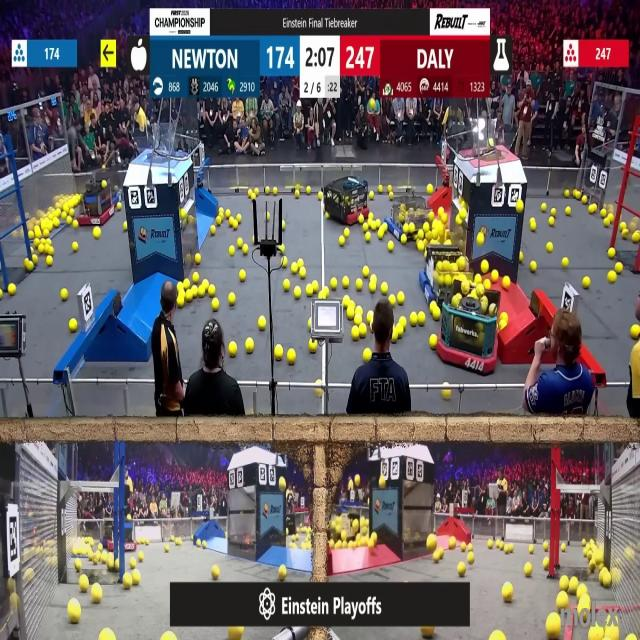ball_airborne: (138, 110, 146, 124), (488, 139, 494, 155), (280, 478, 286, 492), (379, 478, 386, 490), (354, 476, 361, 488)
ball_ground: (548, 616, 562, 640), (68, 600, 80, 622), (502, 585, 512, 603), (92, 586, 102, 604), (557, 593, 568, 609), (568, 579, 578, 596), (422, 626, 434, 640), (600, 571, 610, 587), (590, 628, 601, 640), (101, 630, 114, 640), (79, 578, 88, 592), (9, 594, 18, 608), (287, 349, 295, 364), (230, 342, 238, 357), (278, 565, 286, 579), (122, 574, 130, 588), (426, 535, 434, 549), (246, 339, 253, 354), (631, 325, 639, 338), (458, 562, 466, 575), (418, 313, 426, 326), (275, 346, 283, 359), (310, 341, 318, 354), (429, 336, 437, 349), (560, 579, 568, 592), (482, 262, 490, 275), (498, 317, 506, 330), (208, 285, 216, 297), (608, 272, 616, 284), (212, 566, 220, 578), (347, 308, 355, 320), (432, 309, 440, 321), (133, 572, 141, 584), (367, 280, 375, 292), (524, 564, 532, 576), (432, 551, 440, 563), (258, 317, 265, 330), (70, 319, 77, 332), (411, 313, 418, 326), (352, 326, 359, 339), (478, 234, 485, 247), (320, 288, 329, 298), (26, 262, 34, 273), (354, 304, 362, 315), (492, 632, 503, 640), (530, 262, 537, 274), (363, 349, 370, 361), (396, 292, 403, 304), (359, 324, 366, 336), (362, 267, 369, 279), (293, 286, 300, 298), (178, 295, 185, 307), (212, 300, 219, 312), (227, 293, 234, 305), (354, 312, 361, 324), (396, 326, 403, 338), (290, 265, 298, 275), (45, 255, 52, 266), (545, 242, 552, 253), (344, 295, 351, 306), (502, 277, 509, 288), (307, 285, 314, 296), (185, 290, 192, 301), (199, 287, 206, 298), (389, 293, 396, 304), (356, 279, 362, 291), (62, 288, 68, 300), (450, 536, 456, 548), (313, 281, 319, 293), (398, 317, 406, 326), (76, 559, 82, 571), (518, 202, 524, 214), (330, 279, 337, 289), (617, 265, 624, 275), (193, 253, 200, 263), (8, 284, 15, 294), (343, 278, 350, 288), (191, 274, 198, 284), (541, 559, 548, 569), (94, 229, 101, 239), (466, 554, 473, 564), (131, 558, 138, 568), (444, 390, 451, 400), (363, 233, 370, 243), (492, 272, 499, 282), (164, 633, 174, 640), (504, 542, 511, 552), (369, 536, 376, 546), (35, 230, 42, 240), (584, 277, 590, 288), (563, 256, 569, 267), (240, 271, 246, 282), (284, 280, 290, 291), (530, 219, 536, 230), (366, 312, 372, 323), (382, 283, 388, 294), (282, 256, 288, 267), (418, 241, 424, 252), (108, 559, 114, 570), (392, 333, 398, 344), (237, 239, 244, 248), (572, 189, 579, 198), (608, 248, 614, 258), (388, 242, 394, 252), (298, 269, 304, 279), (427, 184, 433, 194), (72, 242, 78, 252), (519, 252, 525, 262), (632, 234, 638, 244), (114, 560, 120, 570), (38, 244, 44, 254), (589, 205, 595, 215), (370, 220, 376, 230), (203, 279, 210, 287), (418, 232, 425, 240), (622, 232, 629, 240), (178, 289, 185, 297), (69, 208, 76, 216), (340, 237, 346, 246), (243, 245, 249, 254), (378, 231, 384, 240), (362, 222, 368, 231), (547, 217, 553, 226), (600, 209, 606, 218), (566, 207, 572, 216), (580, 197, 586, 206), (178, 280, 184, 289), (266, 186, 272, 195), (540, 204, 546, 213), (358, 215, 364, 224), (443, 214, 449, 223), (187, 215, 193, 224), (184, 279, 189, 289), (400, 236, 405, 246), (564, 189, 570, 197), (344, 230, 350, 238), (297, 258, 303, 266), (460, 542, 466, 550), (46, 247, 52, 255), (29, 232, 35, 240), (250, 192, 256, 200), (43, 230, 49, 238), (227, 218, 233, 226), (236, 214, 242, 222), (211, 224, 216, 233), (229, 245, 234, 254), (139, 553, 144, 562), (552, 208, 557, 217), (216, 216, 221, 225), (604, 218, 609, 227), (234, 220, 239, 229), (224, 209, 229, 218), (628, 635, 637, 640), (67, 216, 73, 223), (316, 191, 322, 198), (621, 222, 627, 229), (529, 544, 534, 552), (73, 220, 78, 228), (33, 255, 38, 263), (542, 542, 547, 550), (467, 542, 472, 550), (307, 186, 312, 194), (379, 185, 384, 193), (273, 187, 278, 195), (388, 184, 393, 192), (195, 539, 200, 547), (0, 289, 4, 299), (424, 222, 429, 230), (440, 208, 445, 216), (34, 239, 39, 247), (328, 212, 332, 221), (388, 192, 394, 198), (184, 210, 188, 219), (561, 543, 566, 550), (294, 190, 299, 197), (218, 208, 223, 215), (123, 222, 127, 230), (164, 546, 168, 554), (282, 221, 286, 229), (116, 202, 120, 210), (489, 540, 493, 548), (368, 190, 372, 198), (280, 245, 284, 253), (309, 319, 313, 327), (368, 212, 372, 220), (498, 540, 502, 548), (268, 212, 272, 220), (176, 538, 181, 544), (99, 543, 103, 549), (171, 536, 175, 542), (146, 538, 150, 544), (204, 540, 207, 547)
goal: (466, 123, 521, 161), (125, 128, 187, 160)
robot_blue: (420, 244, 459, 309), (386, 193, 427, 241)
robot_red: (440, 288, 500, 376), (325, 170, 370, 223), (80, 180, 116, 227), (100, 515, 136, 550)
